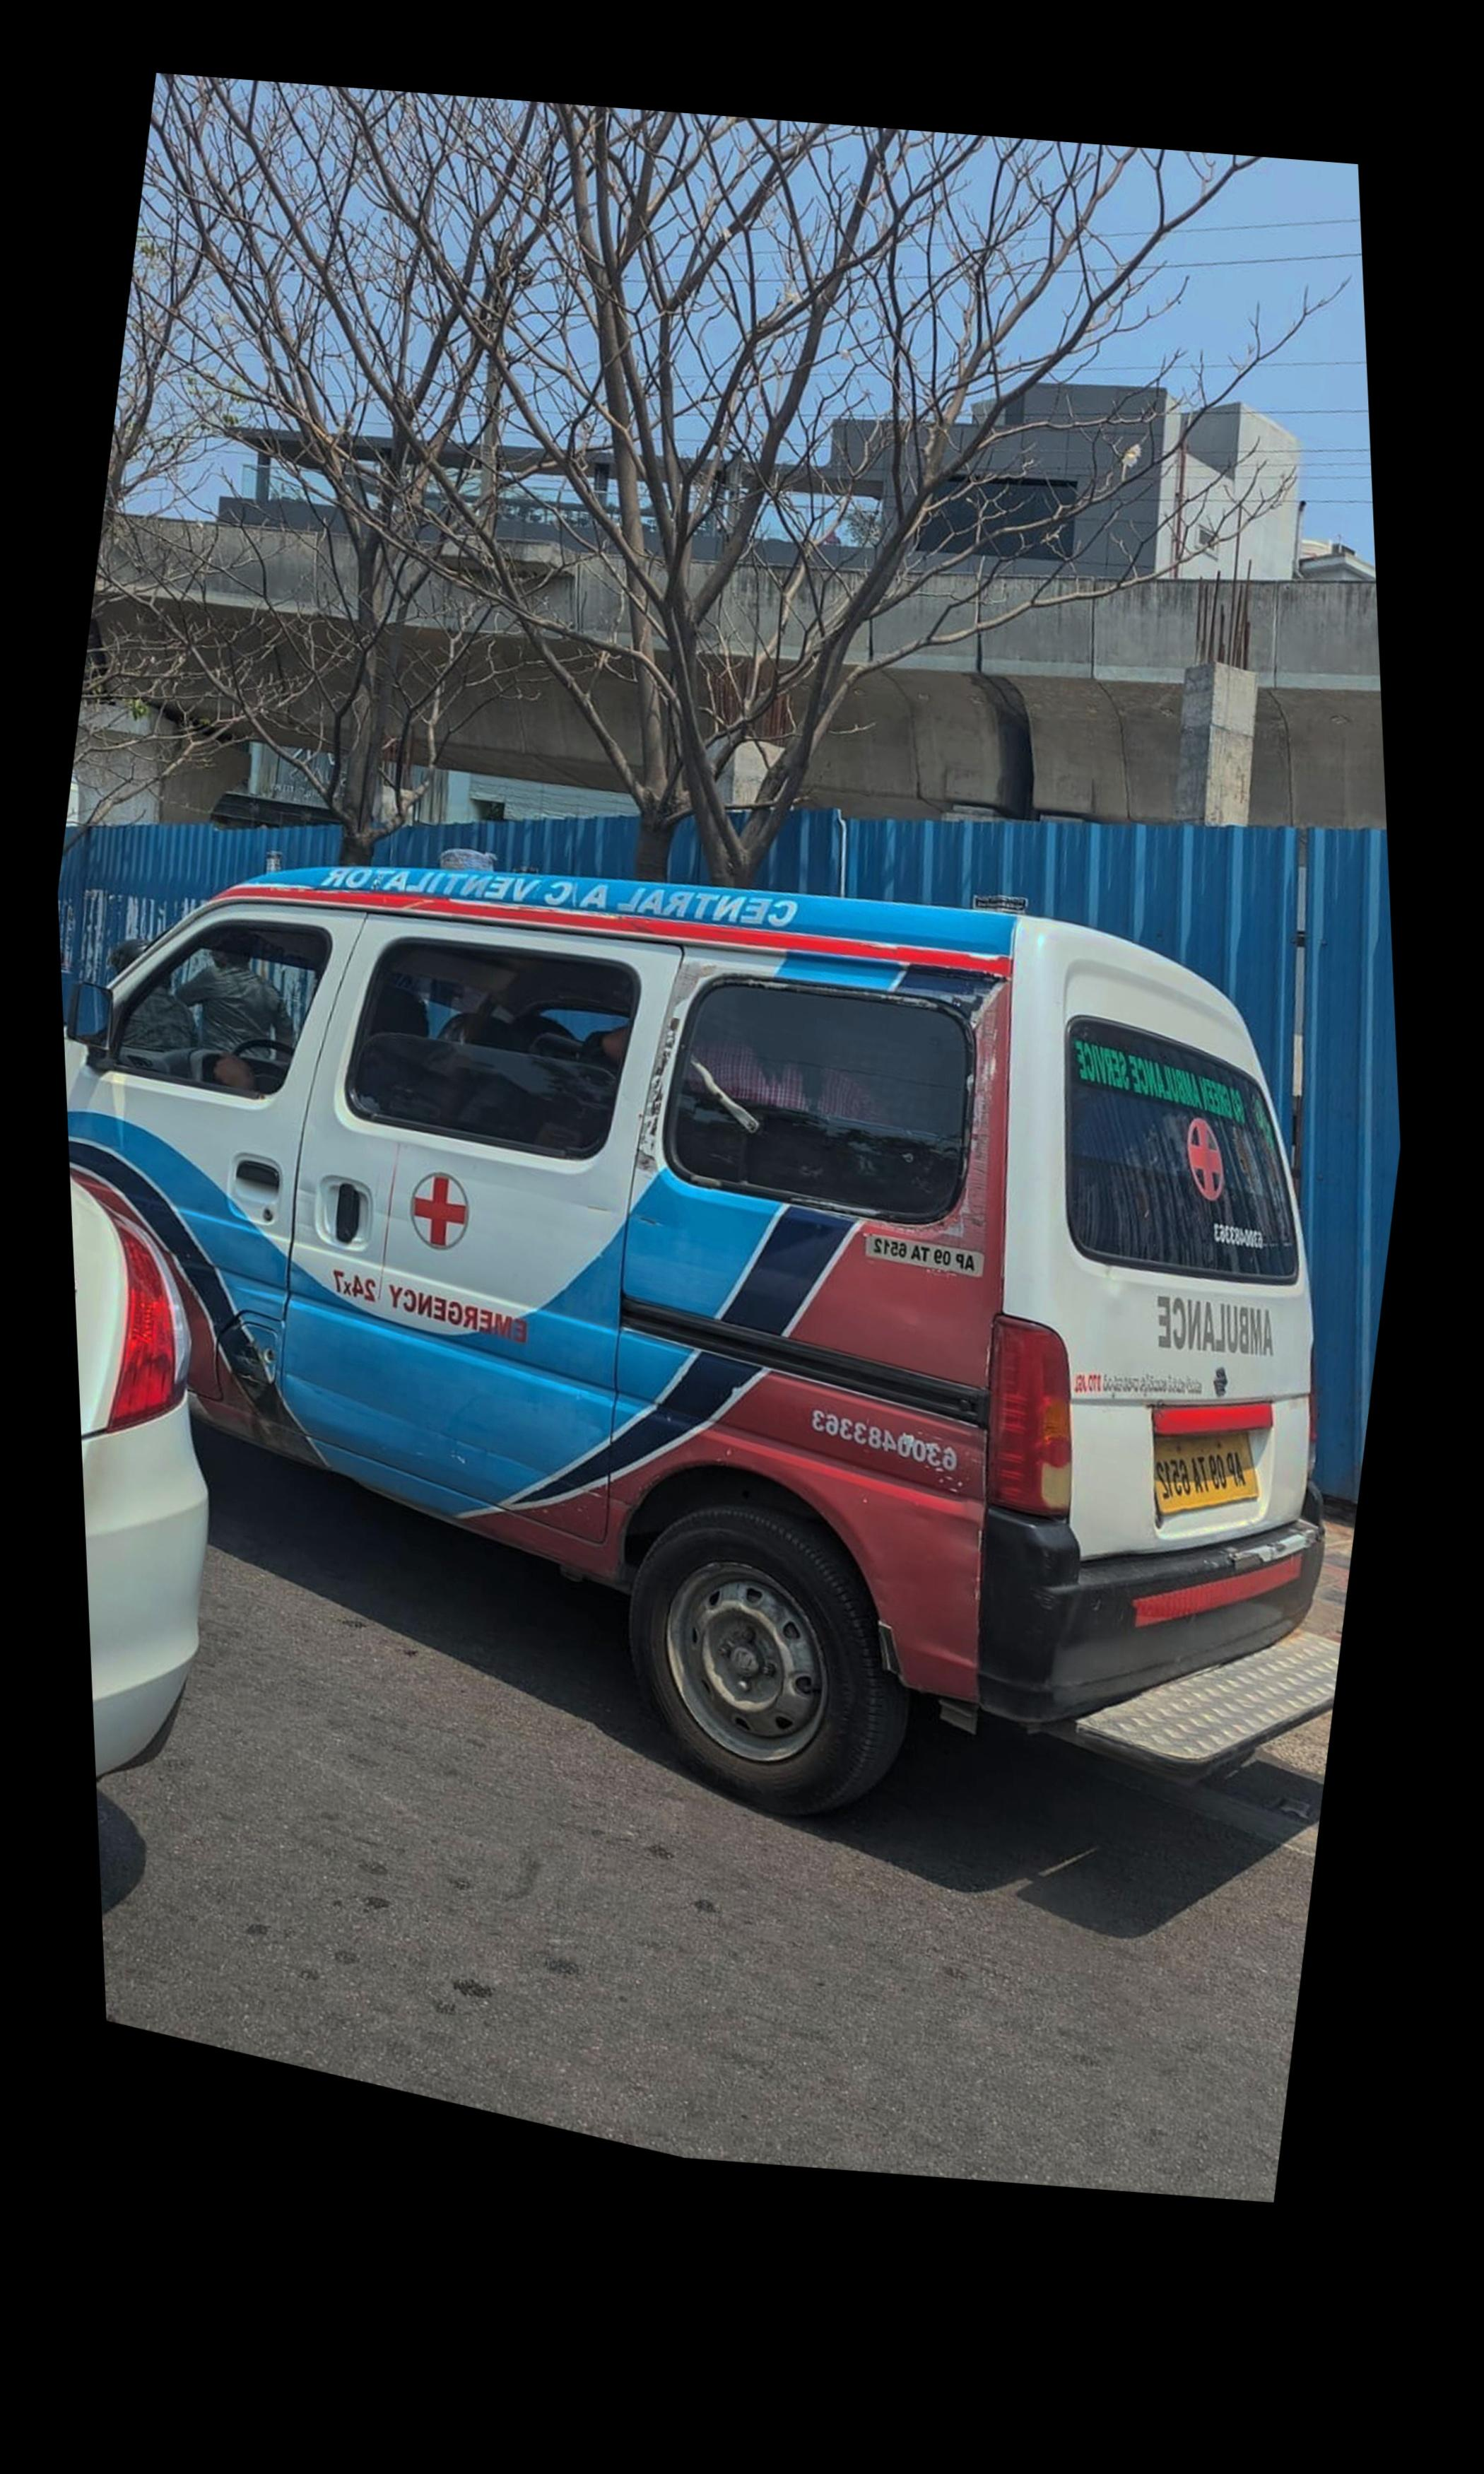ambulance: (67, 868, 1318, 1817)
